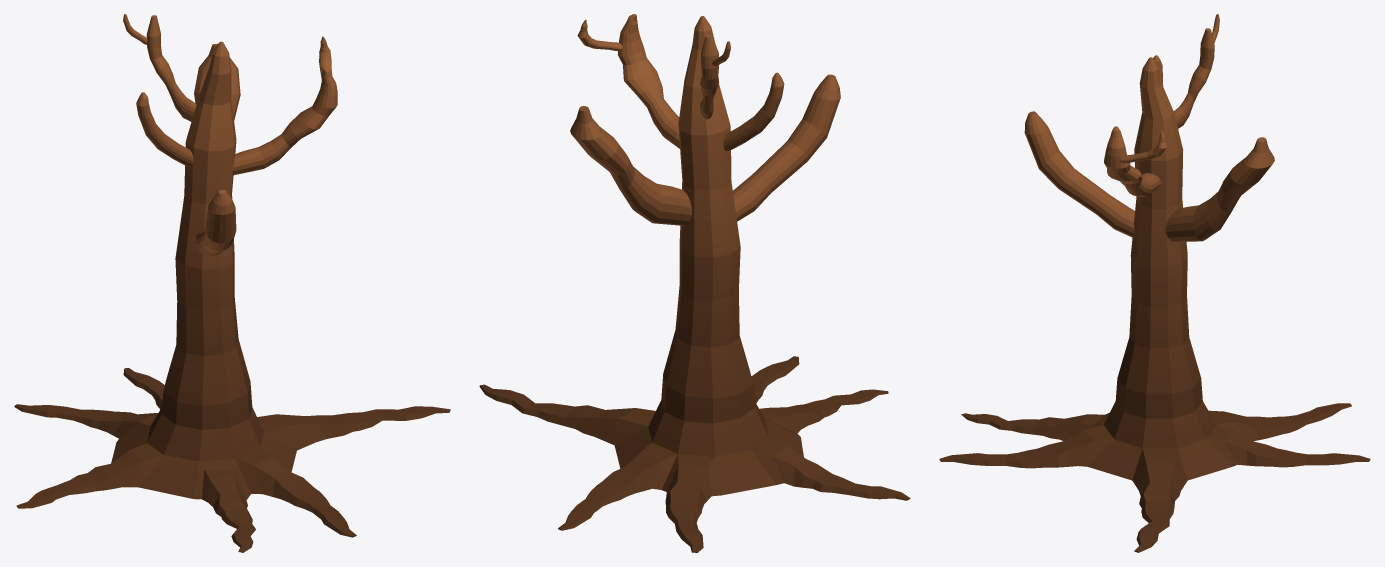
The model's file is Arbol_2_elementosDecorativos_T.fbx.
The picture shows the model from 3 angles, left to right: view 1: azimuth 30°, elevation 25°; view 2: azimuth 150°, elevation 25°; view 3: azimuth 270°, elevation 25°; orthographic projection. The views are drawn at different scales.
Parts seen in each view (by area): view 1: Arbol grande.001, Arbol grande.003, Arbol grande; view 2: Arbol grande.001, Arbol grande.003, Arbol grande; view 3: Arbol grande.001, Arbol grande.003, Arbol grande.
Part boxes in pixels (x1,y1,x2,y2): Arbol grande.001: (147, 41, 263, 461); Arbol grande.003: (14, 368, 450, 552); Arbol grande: (123, 14, 337, 256); Arbol grande.001: (648, 16, 768, 456); Arbol grande.003: (479, 356, 910, 552); Arbol grande: (570, 14, 840, 225); Arbol grande.001: (1104, 57, 1216, 448); Arbol grande.003: (939, 403, 1370, 552); Arbol grande: (1024, 14, 1274, 241).
Bounding box in the file's own units: 5913 × 5776 × 5522.
